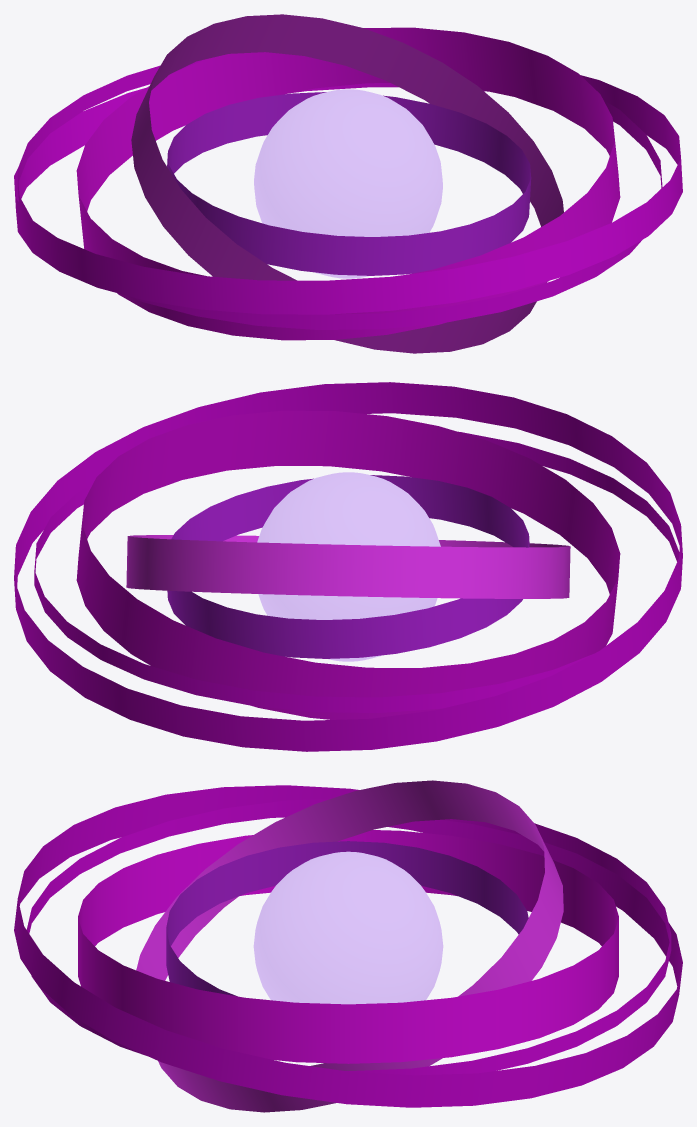
The model's file is metalicOrb8.glb.
The picture shows the model from 3 angles, top to bottom: view 1: azimuth 30°, elevation 25°; view 2: azimuth 150°, elevation 25°; view 3: azimuth 270°, elevation 25°; orthographic projection.
Parts seen in each view (by area): view 1: Cylinder.002, Cylinder.003, Cylinder.001, Sphere, Cylinder, Cylinder.004; view 2: Cylinder.002, Cylinder.003, Cylinder.001, Cylinder, Sphere, Cylinder.004; view 3: Cylinder.002, Cylinder.003, Sphere, Cylinder.001, Cylinder, Cylinder.004.
Boxes of the visible parts, x1,y1,x2,y2 form: Cylinder.002: [76, 27, 620, 340]; Cylinder.003: [14, 75, 682, 314]; Cylinder.001: [131, 14, 563, 353]; Sphere: [254, 89, 442, 278]; Cylinder: [167, 92, 531, 275]; Cylinder.004: [17, 59, 662, 329]; Cylinder.002: [76, 410, 620, 719]; Cylinder.003: [14, 382, 682, 751]; Cylinder.001: [126, 535, 570, 598]; Cylinder: [167, 475, 529, 658]; Sphere: [257, 472, 440, 661]; Cylinder.004: [34, 431, 679, 712]; Cylinder.002: [78, 830, 618, 1063]; Cylinder.003: [14, 785, 682, 1107]; Sphere: [253, 851, 443, 1004]; Cylinder.001: [136, 780, 563, 1112]; Cylinder: [166, 841, 528, 996]; Cylinder.004: [26, 798, 671, 1075].
Bounding box in the file's own units: 5.87 × 2 × 5.87.
